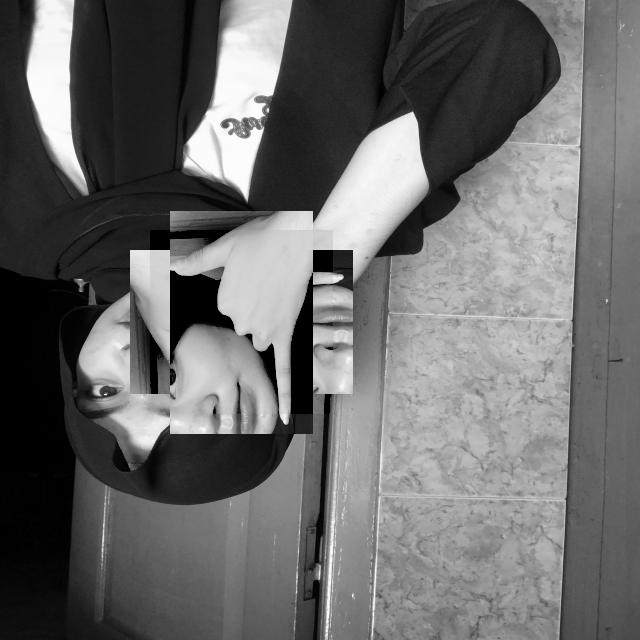telpon: (150, 230, 333, 414)
